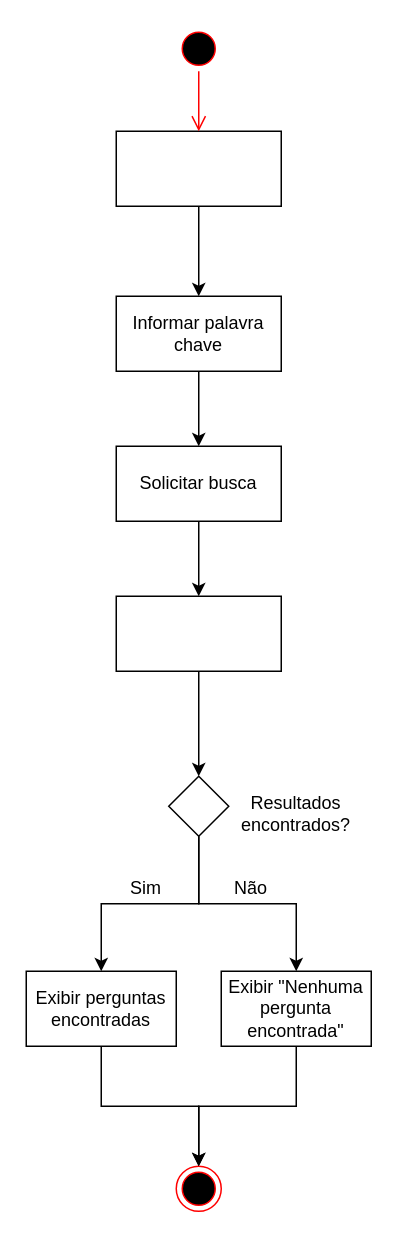
The diagram is 398 pixels wide and 1238 high, and some of its shapes have lost their labels. Here are the shapes that lost their labels. From the top down, the box of each, then its label:
(115, 130, 281, 206): Acessar ESM forum
(115, 595, 281, 671): Pesquisar perguntas
